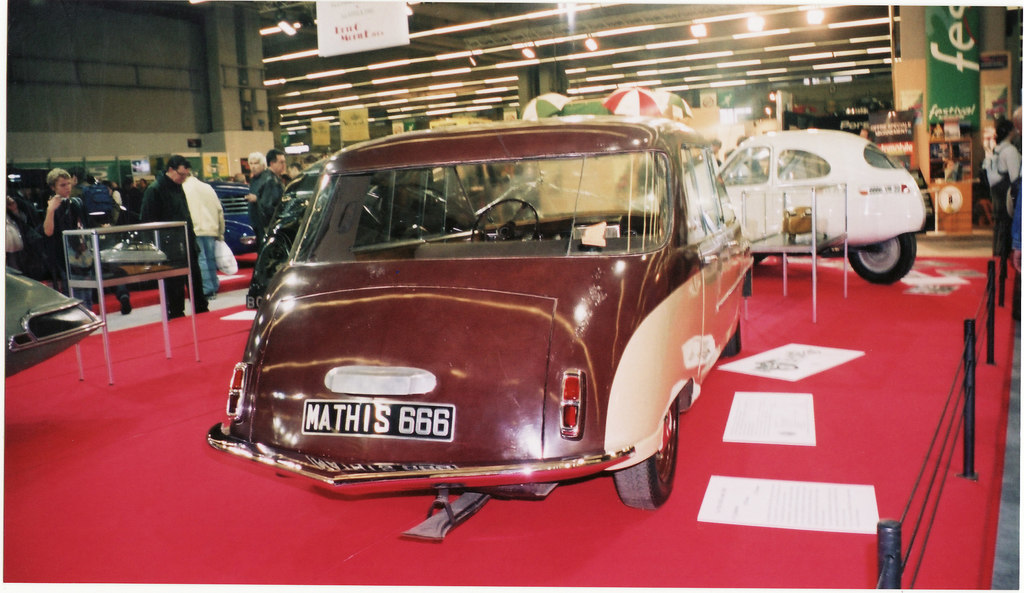Car: (200, 120, 759, 544), (245, 158, 476, 312), (0, 262, 108, 372), (116, 178, 254, 252), (97, 242, 170, 275)
